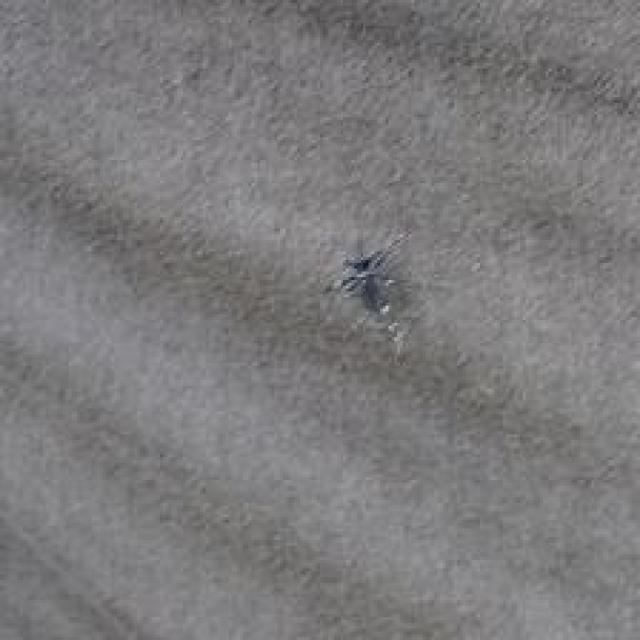Aedes albopictus: (323, 227, 420, 356)
